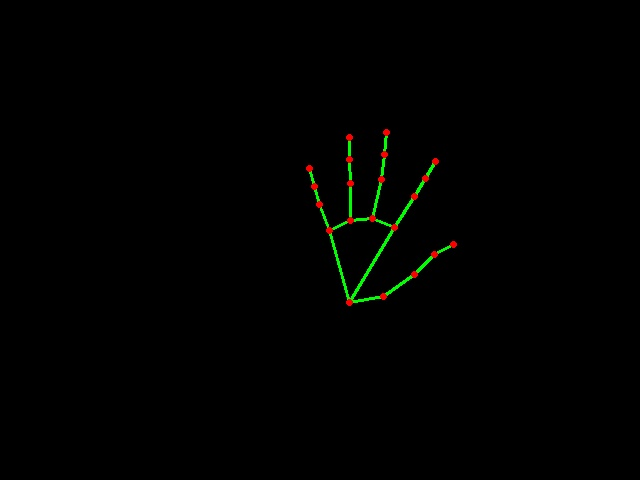stop: (296, 117, 470, 317)
